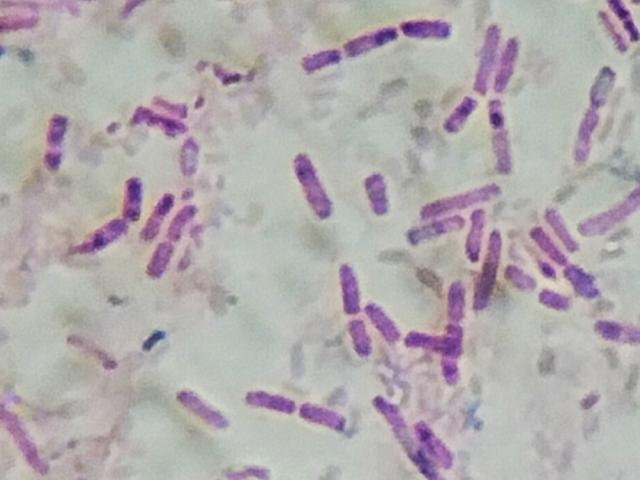E. coli: (0, 399, 49, 477), (579, 183, 640, 237), (293, 150, 333, 223), (485, 93, 518, 176), (421, 183, 511, 213), (173, 386, 227, 434), (39, 97, 74, 170), (538, 199, 583, 254), (471, 20, 501, 101), (479, 227, 509, 306), (342, 16, 399, 57), (67, 329, 120, 369), (295, 396, 349, 434), (361, 167, 399, 221), (132, 96, 185, 134), (372, 399, 409, 448), (439, 85, 478, 131), (242, 383, 296, 416), (139, 190, 172, 241), (595, 313, 640, 349), (399, 9, 449, 41), (528, 222, 567, 263), (417, 416, 454, 459), (411, 217, 464, 247), (572, 107, 602, 159), (333, 262, 362, 314), (406, 330, 458, 359), (369, 299, 402, 344), (499, 33, 525, 89), (116, 169, 146, 217), (438, 325, 462, 385), (585, 63, 615, 110), (401, 441, 437, 480), (438, 279, 469, 323), (171, 129, 200, 176), (88, 215, 128, 249), (302, 39, 342, 73), (466, 215, 492, 265), (143, 236, 172, 280), (613, 0, 640, 47), (502, 265, 544, 295), (165, 199, 193, 243), (346, 315, 374, 355), (568, 262, 599, 298), (538, 289, 575, 318), (114, 0, 151, 26), (597, 8, 616, 58)
